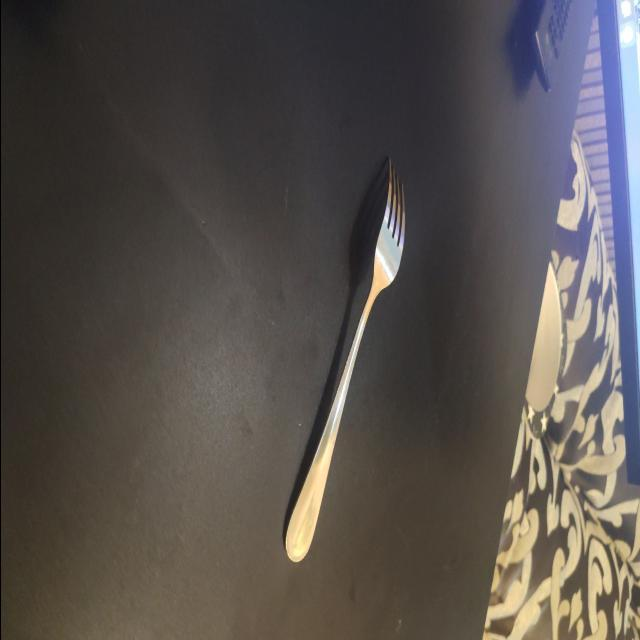plastic utensil: (285, 160, 404, 560)
